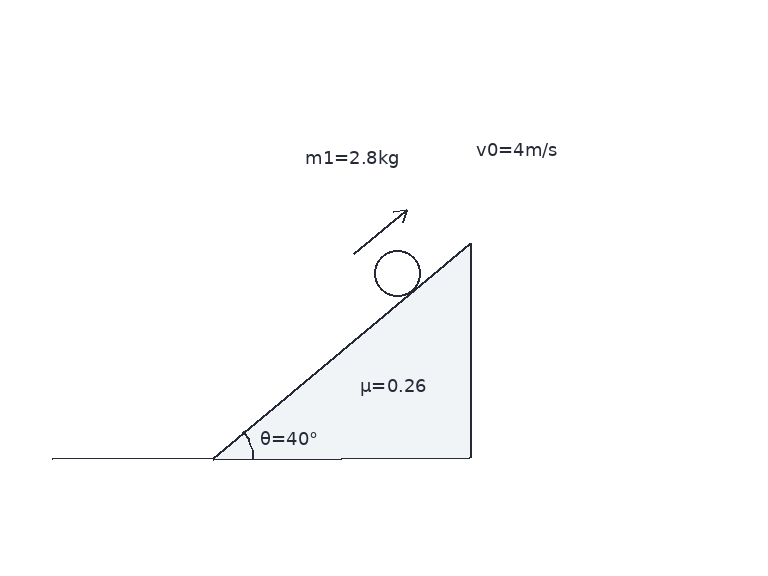ball: (372, 248, 422, 298)
ramp: (211, 241, 472, 460)
